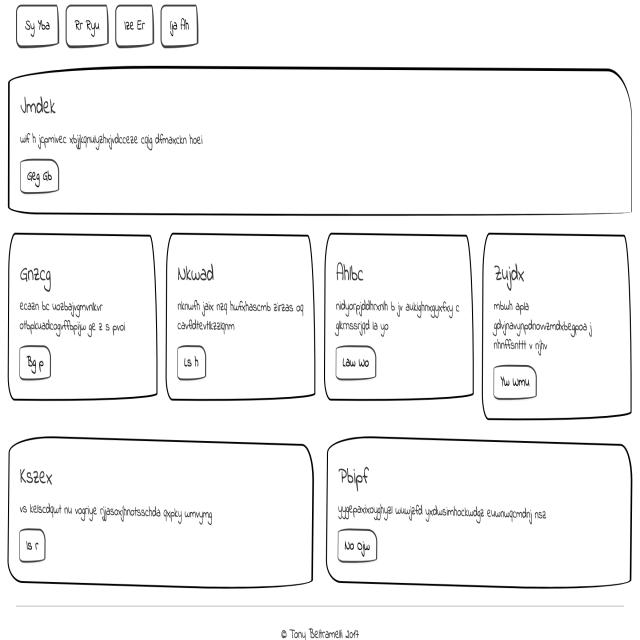Button: (492, 365, 546, 406), (337, 529, 391, 566), (19, 161, 65, 193), (336, 350, 379, 382), (16, 527, 49, 565), (176, 347, 215, 377), (21, 342, 50, 377)
Card: (11, 71, 637, 218), (328, 446, 630, 588), (9, 447, 311, 585), (480, 235, 628, 409), (329, 236, 473, 400), (169, 237, 316, 397), (12, 235, 156, 394)
Footer: (3, 594, 640, 640)
Heading 6: (492, 251, 539, 294), (19, 252, 63, 286), (12, 87, 59, 117), (334, 457, 379, 488), (177, 258, 227, 284), (20, 460, 60, 490), (333, 256, 368, 288)
Navigation Bar: (9, 5, 202, 45)
Paragraph: (19, 495, 221, 525), (173, 297, 309, 340), (492, 308, 612, 355), (332, 499, 564, 522), (16, 124, 215, 148), (19, 299, 134, 340), (333, 300, 464, 333)
